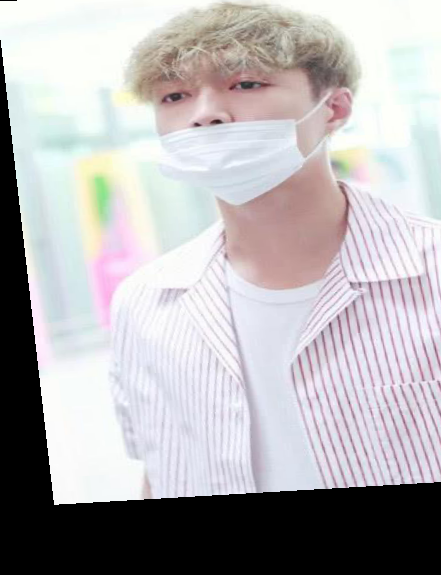mask_weared_incorrect: (122, 3, 374, 217)
